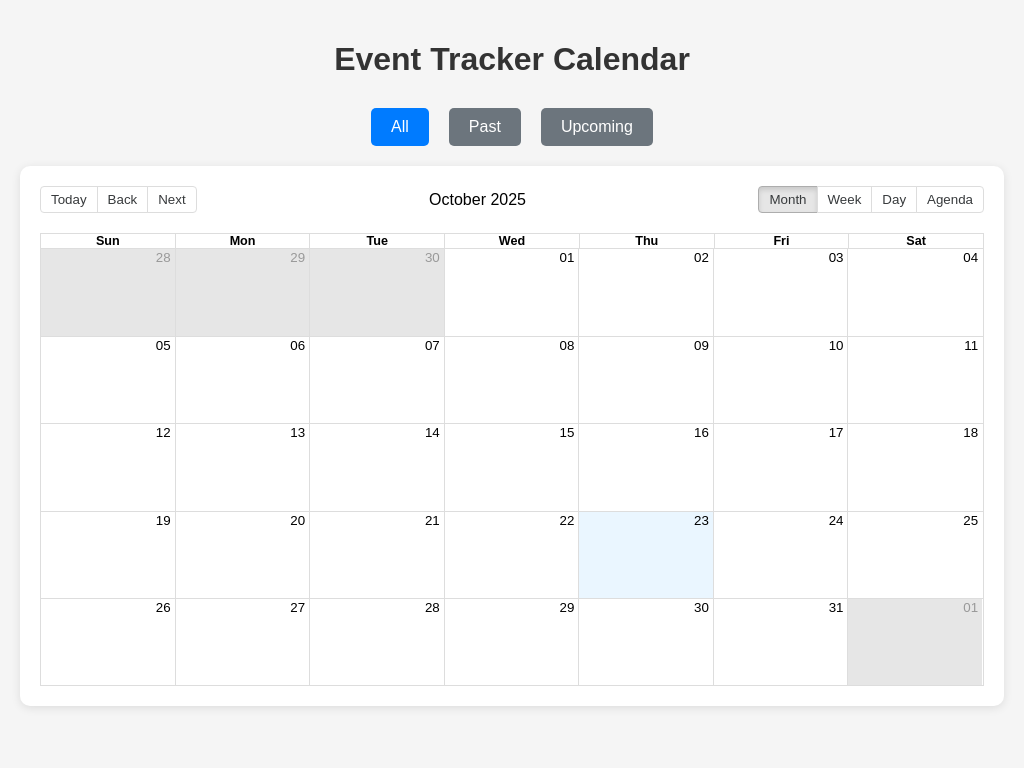
Test: should delete an event
Note: calendar पर click करो
Click the element with class "rbc-calendar". click: (140, 306)
box: [40,186,984,686]
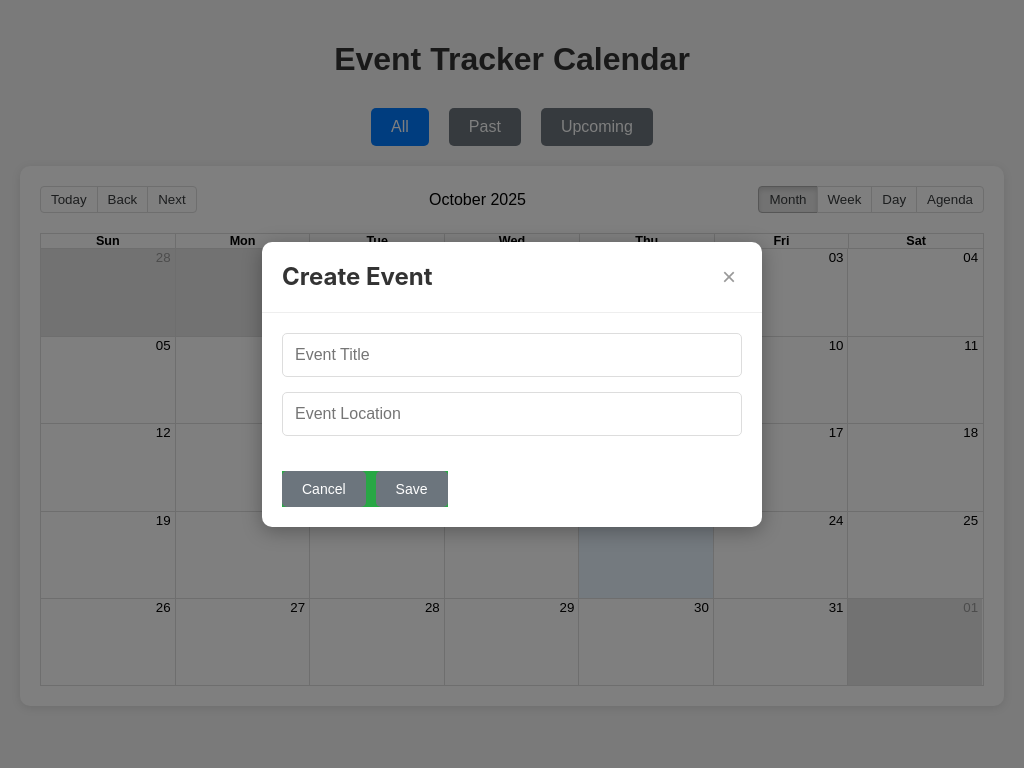
Note: event बनाओ
Type "To be deleted" into the field with placeholder "Event Title". click: (512, 355)
box: [282,333,742,377]
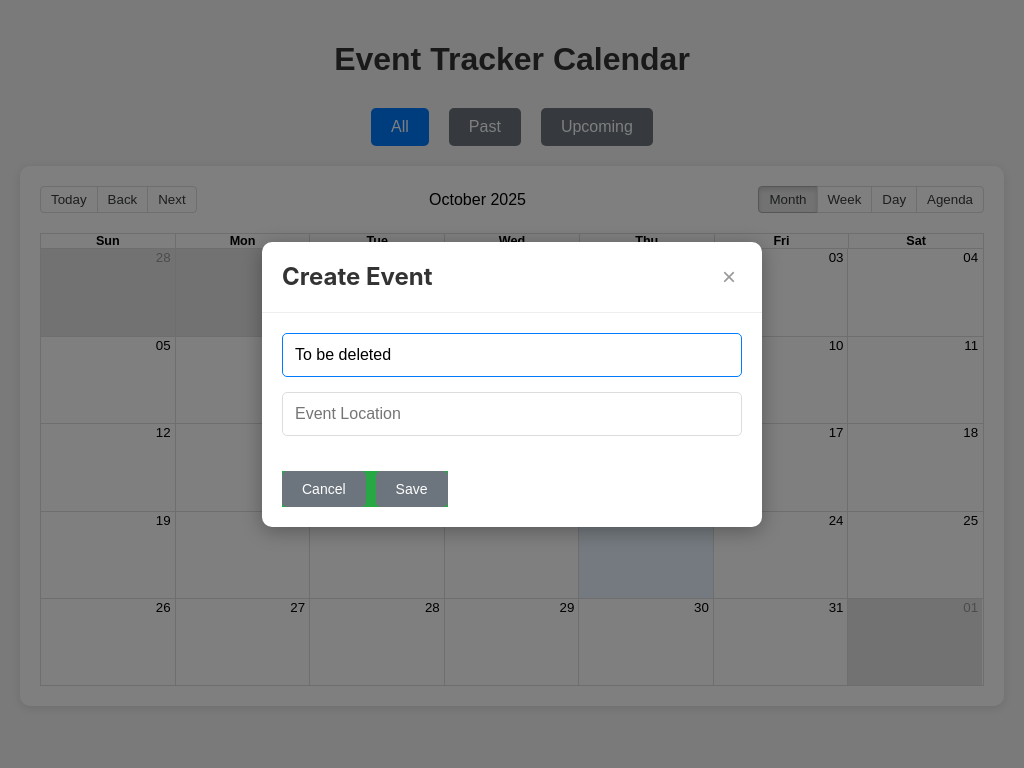
Type "Test" into the field with placeholder "Event Location". click: (512, 414)
box: [282,392,742,436]
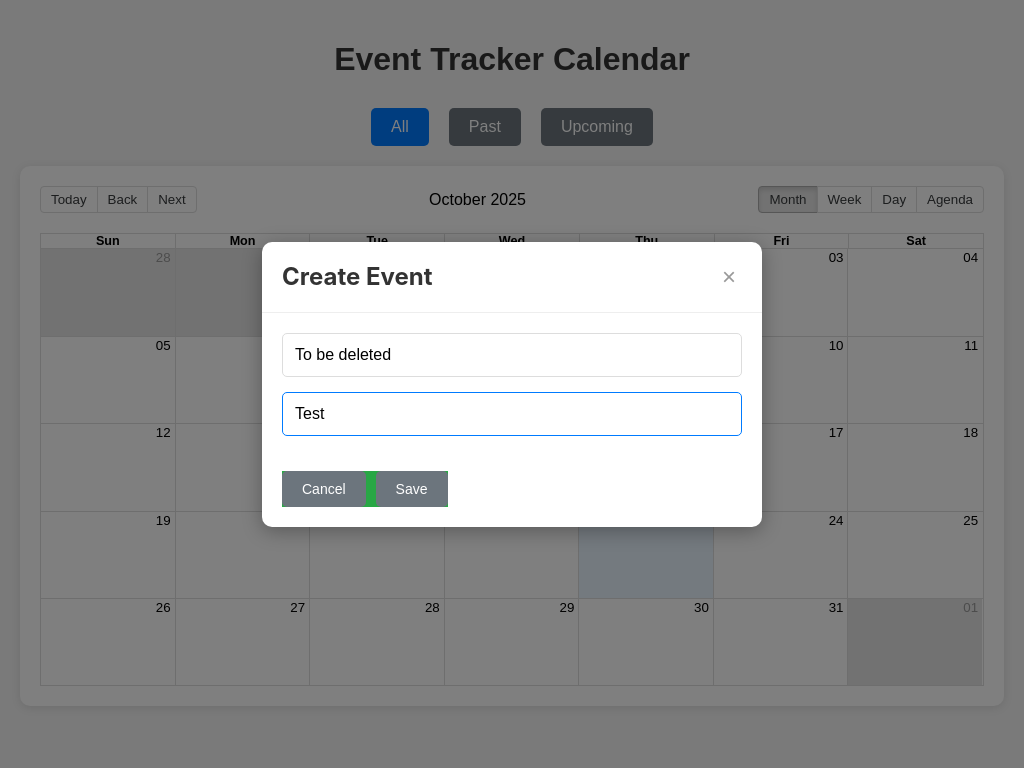
Note: Save दबाओ
Click the button "Save". click: (412, 489)
box: [376,471,448,507]
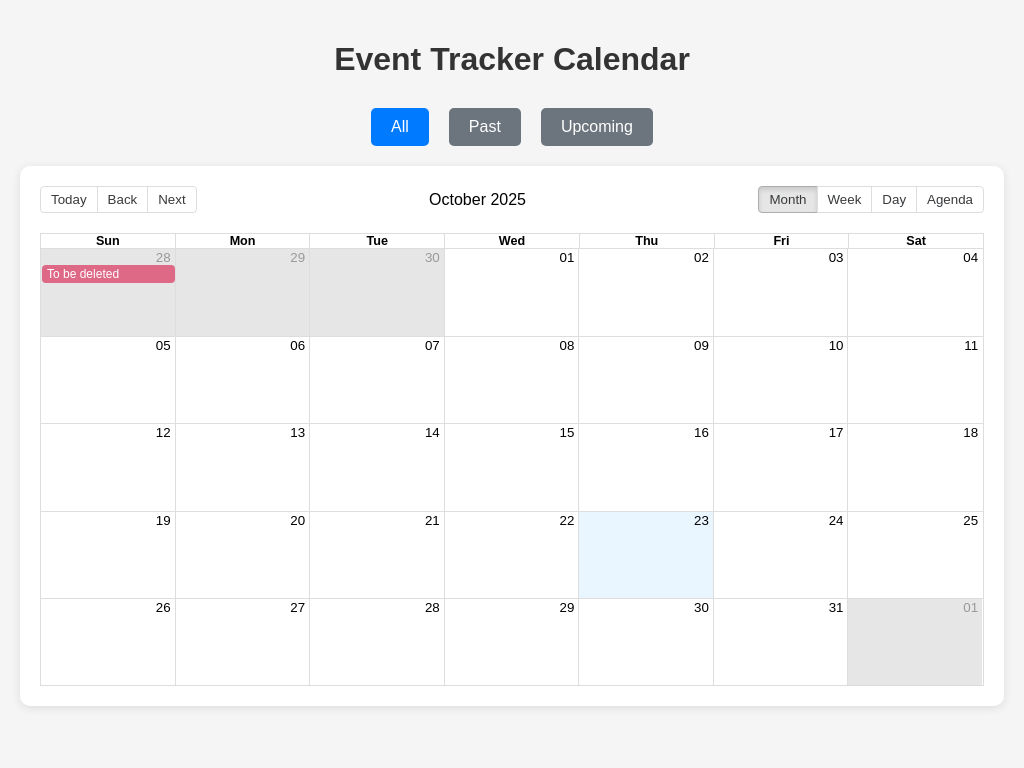
Expected: the element with class "rbc-event" is shown
Note: delete करो
Click the element with class "rbc-event". click: (109, 274)
box: [42,265,175,283]
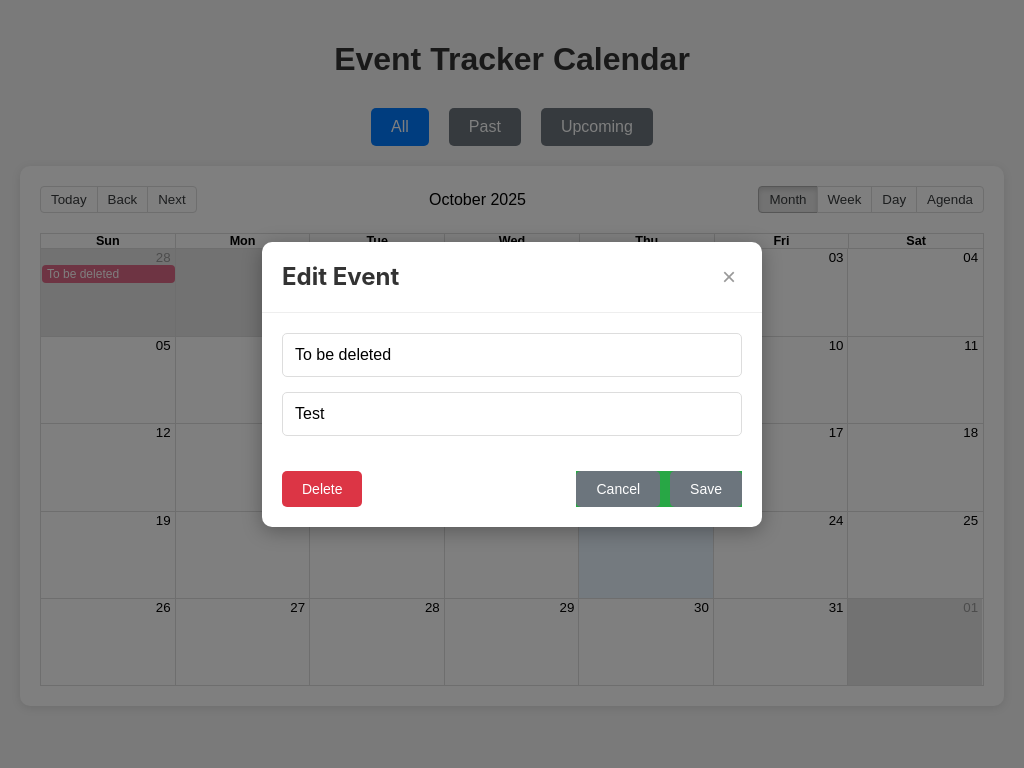
Click the button with class "mm-popup__btn--danger". click: (323, 489)
box: [282,471,363,507]
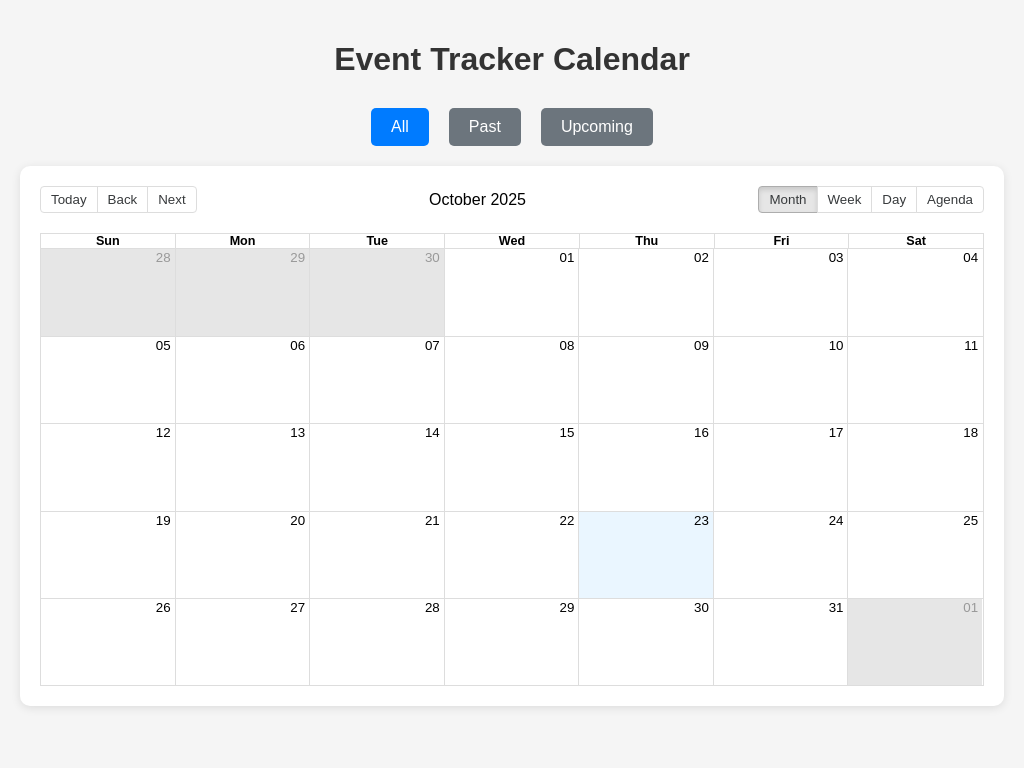
Expected: the element with class "rbc-event" is gone
